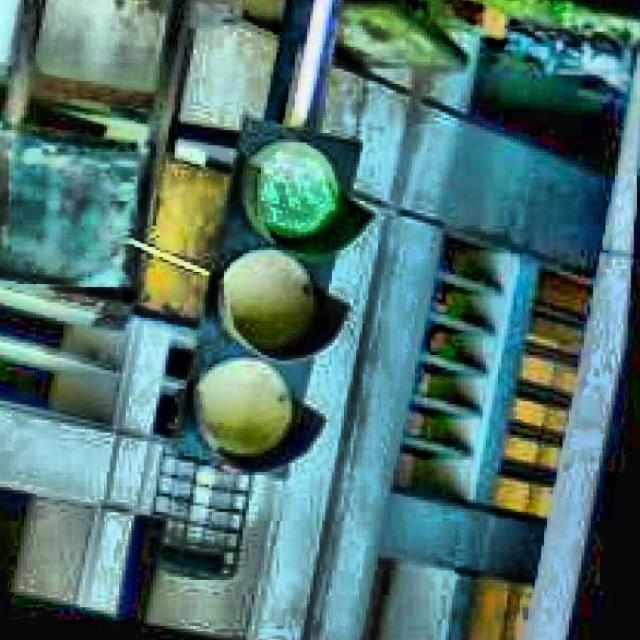green: (186, 136, 361, 453)
